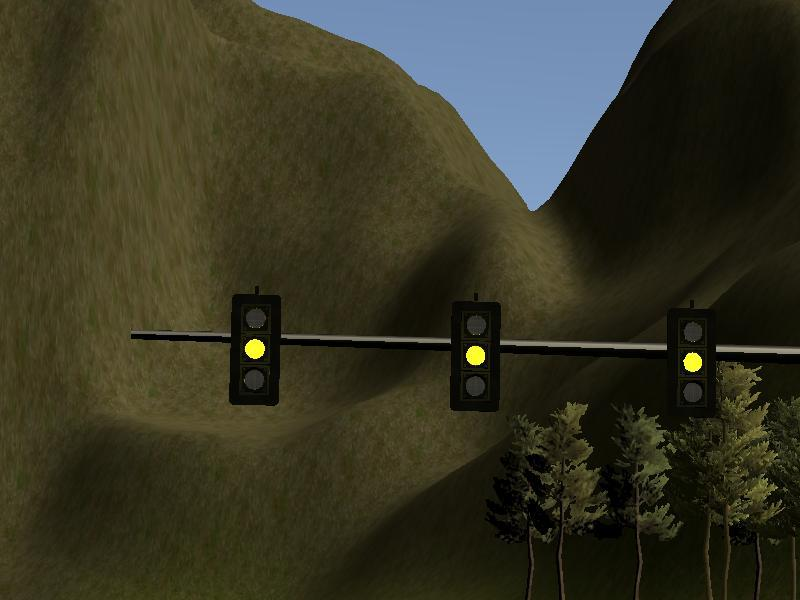Yellow: (230, 293, 282, 406), (450, 300, 501, 412), (667, 308, 716, 419)
